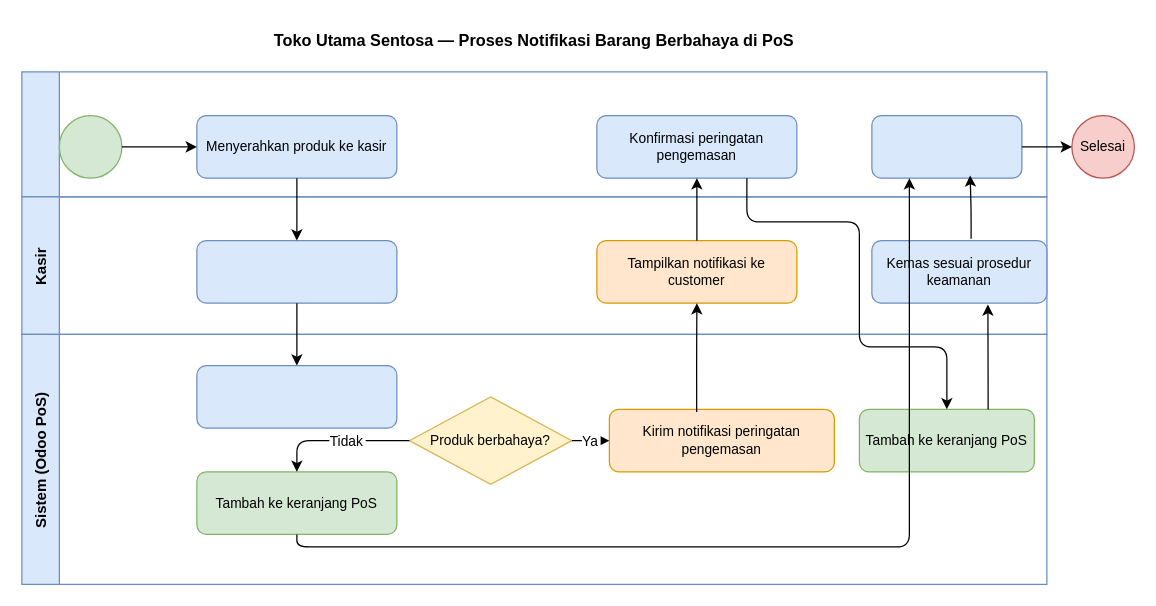
Image size: 1156x606. Some labels were removed from this diagram. The box of each missing label's shape, as (x1, y1, x2, y2) in pixels:
Customer: (21, 71, 1047, 197)
Input produk ke PoS: (196, 239, 397, 303)
Melakukan pembayaran: (871, 114, 1022, 178)
Mulai: (58, 114, 122, 178)
Terima kode produk: (196, 364, 397, 428)
